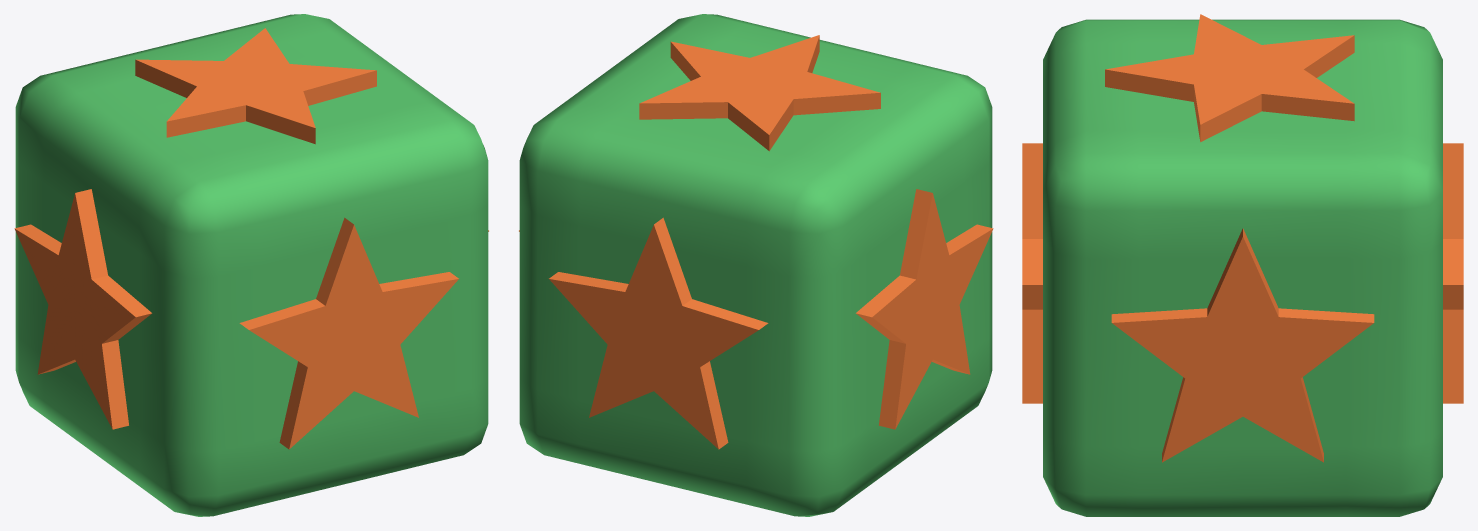
File: MessyMemoryBlock.obj
3 views of the same model, side by side, from view 1: azimuth 30°, elevation 25°; view 2: azimuth 150°, elevation 25°; view 3: azimuth 270°, elevation 25° (orthographic). The views are drawn at different scales.
Visible parts, largest first — view 1: Block, Star; view 2: Block, Star; view 3: Block, Star.
Boxes of the visible parts, <box> form: Block: <box>15,14,488,516</box>; Star: <box>14,28,488,449</box>; Block: <box>519,14,992,516</box>; Star: <box>519,35,993,449</box>; Block: <box>1043,19,1442,516</box>; Star: <box>1022,14,1463,462</box>.
Size of the model in its own units: 1.6 by 1.52 by 1.6.
